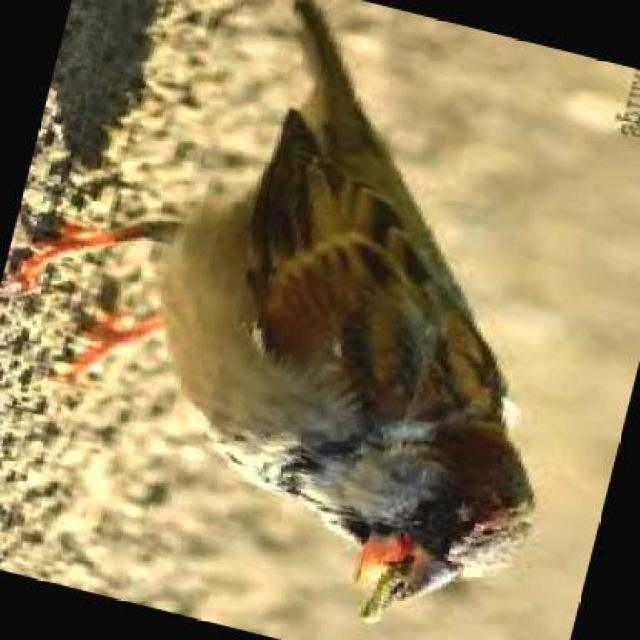Bird: (12, 14, 542, 629)
